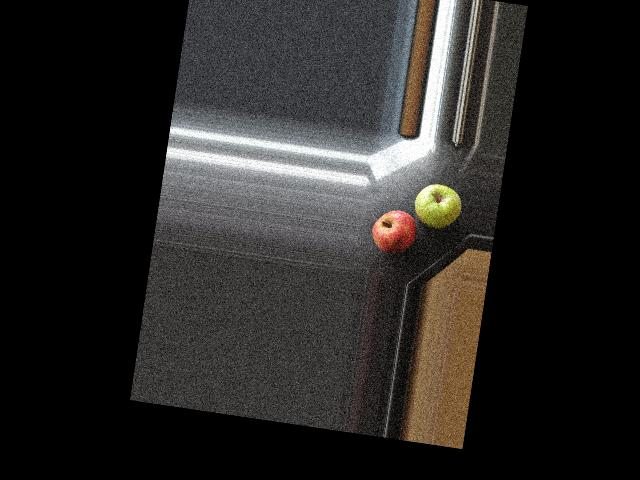apple: (367, 205, 417, 258)
